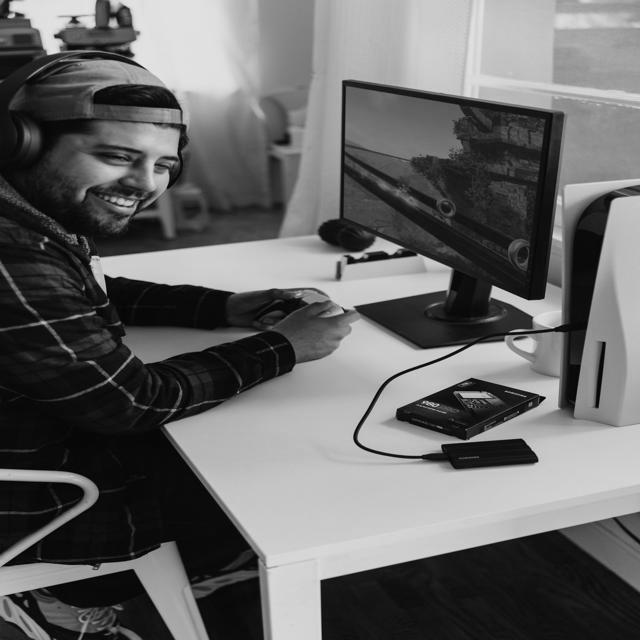Happiness: (46, 121, 182, 240)
